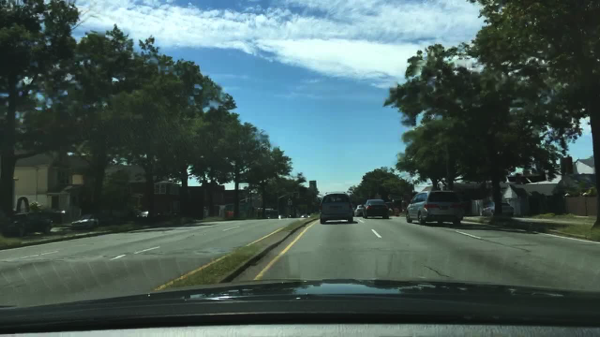car: (403, 190, 467, 227), (0, 211, 54, 239), (317, 191, 354, 225), (479, 200, 515, 220), (69, 214, 103, 231), (362, 199, 391, 218), (134, 208, 150, 222), (352, 204, 365, 218), (383, 201, 395, 216), (393, 207, 400, 217), (300, 213, 309, 219), (278, 214, 287, 219)
